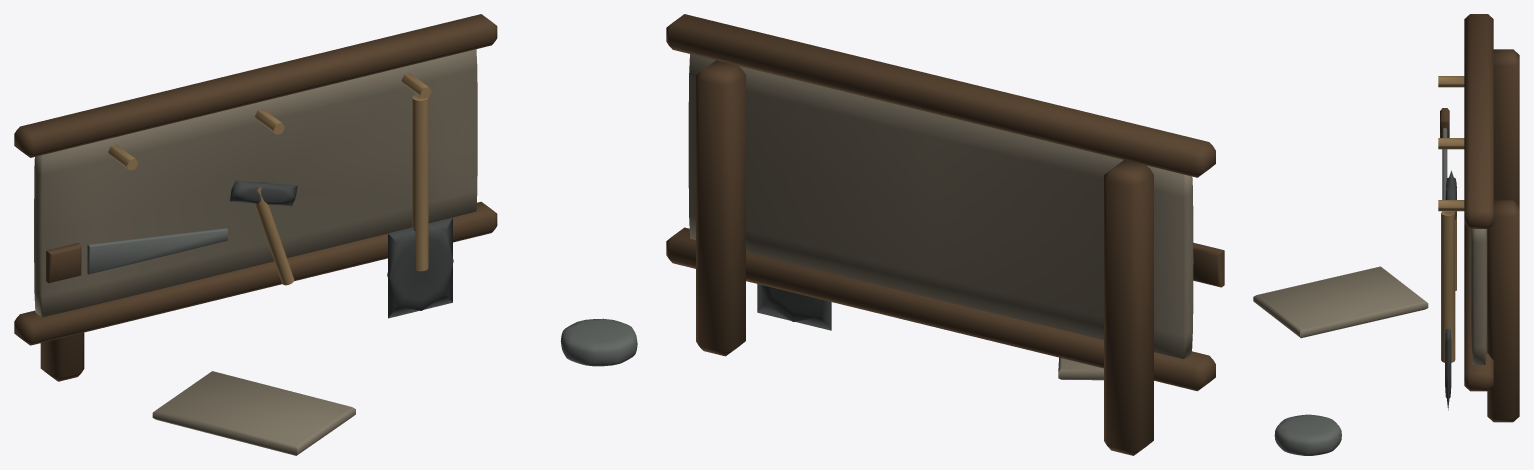
Rendered from tool_peg_b.glb.
3 renders of one model, left to right at view 1: azimuth 30°, elevation 25°; view 2: azimuth 150°, elevation 25°; view 3: azimuth 270°, elevation 25°, orthographic. The views are drawn at different scales.
Visible parts, largest first — view 1: Surface; view 2: Surface; view 3: Surface.
Boxes of the visible parts, left/top/right/bottom form: Surface: left=14, top=14, right=637, bottom=455; Surface: left=666, top=14, right=1224, bottom=455; Surface: left=1253, top=14, right=1519, bottom=455.
Size of the model in its own units: 3.16 by 1.57 by 1.64.
